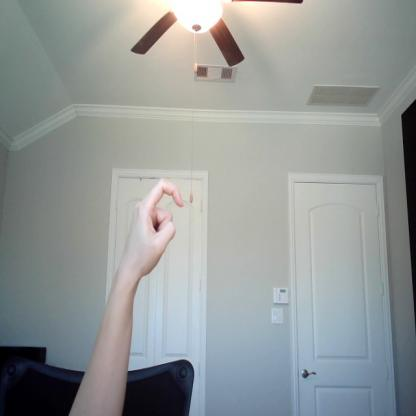X: (122, 172, 188, 282)
